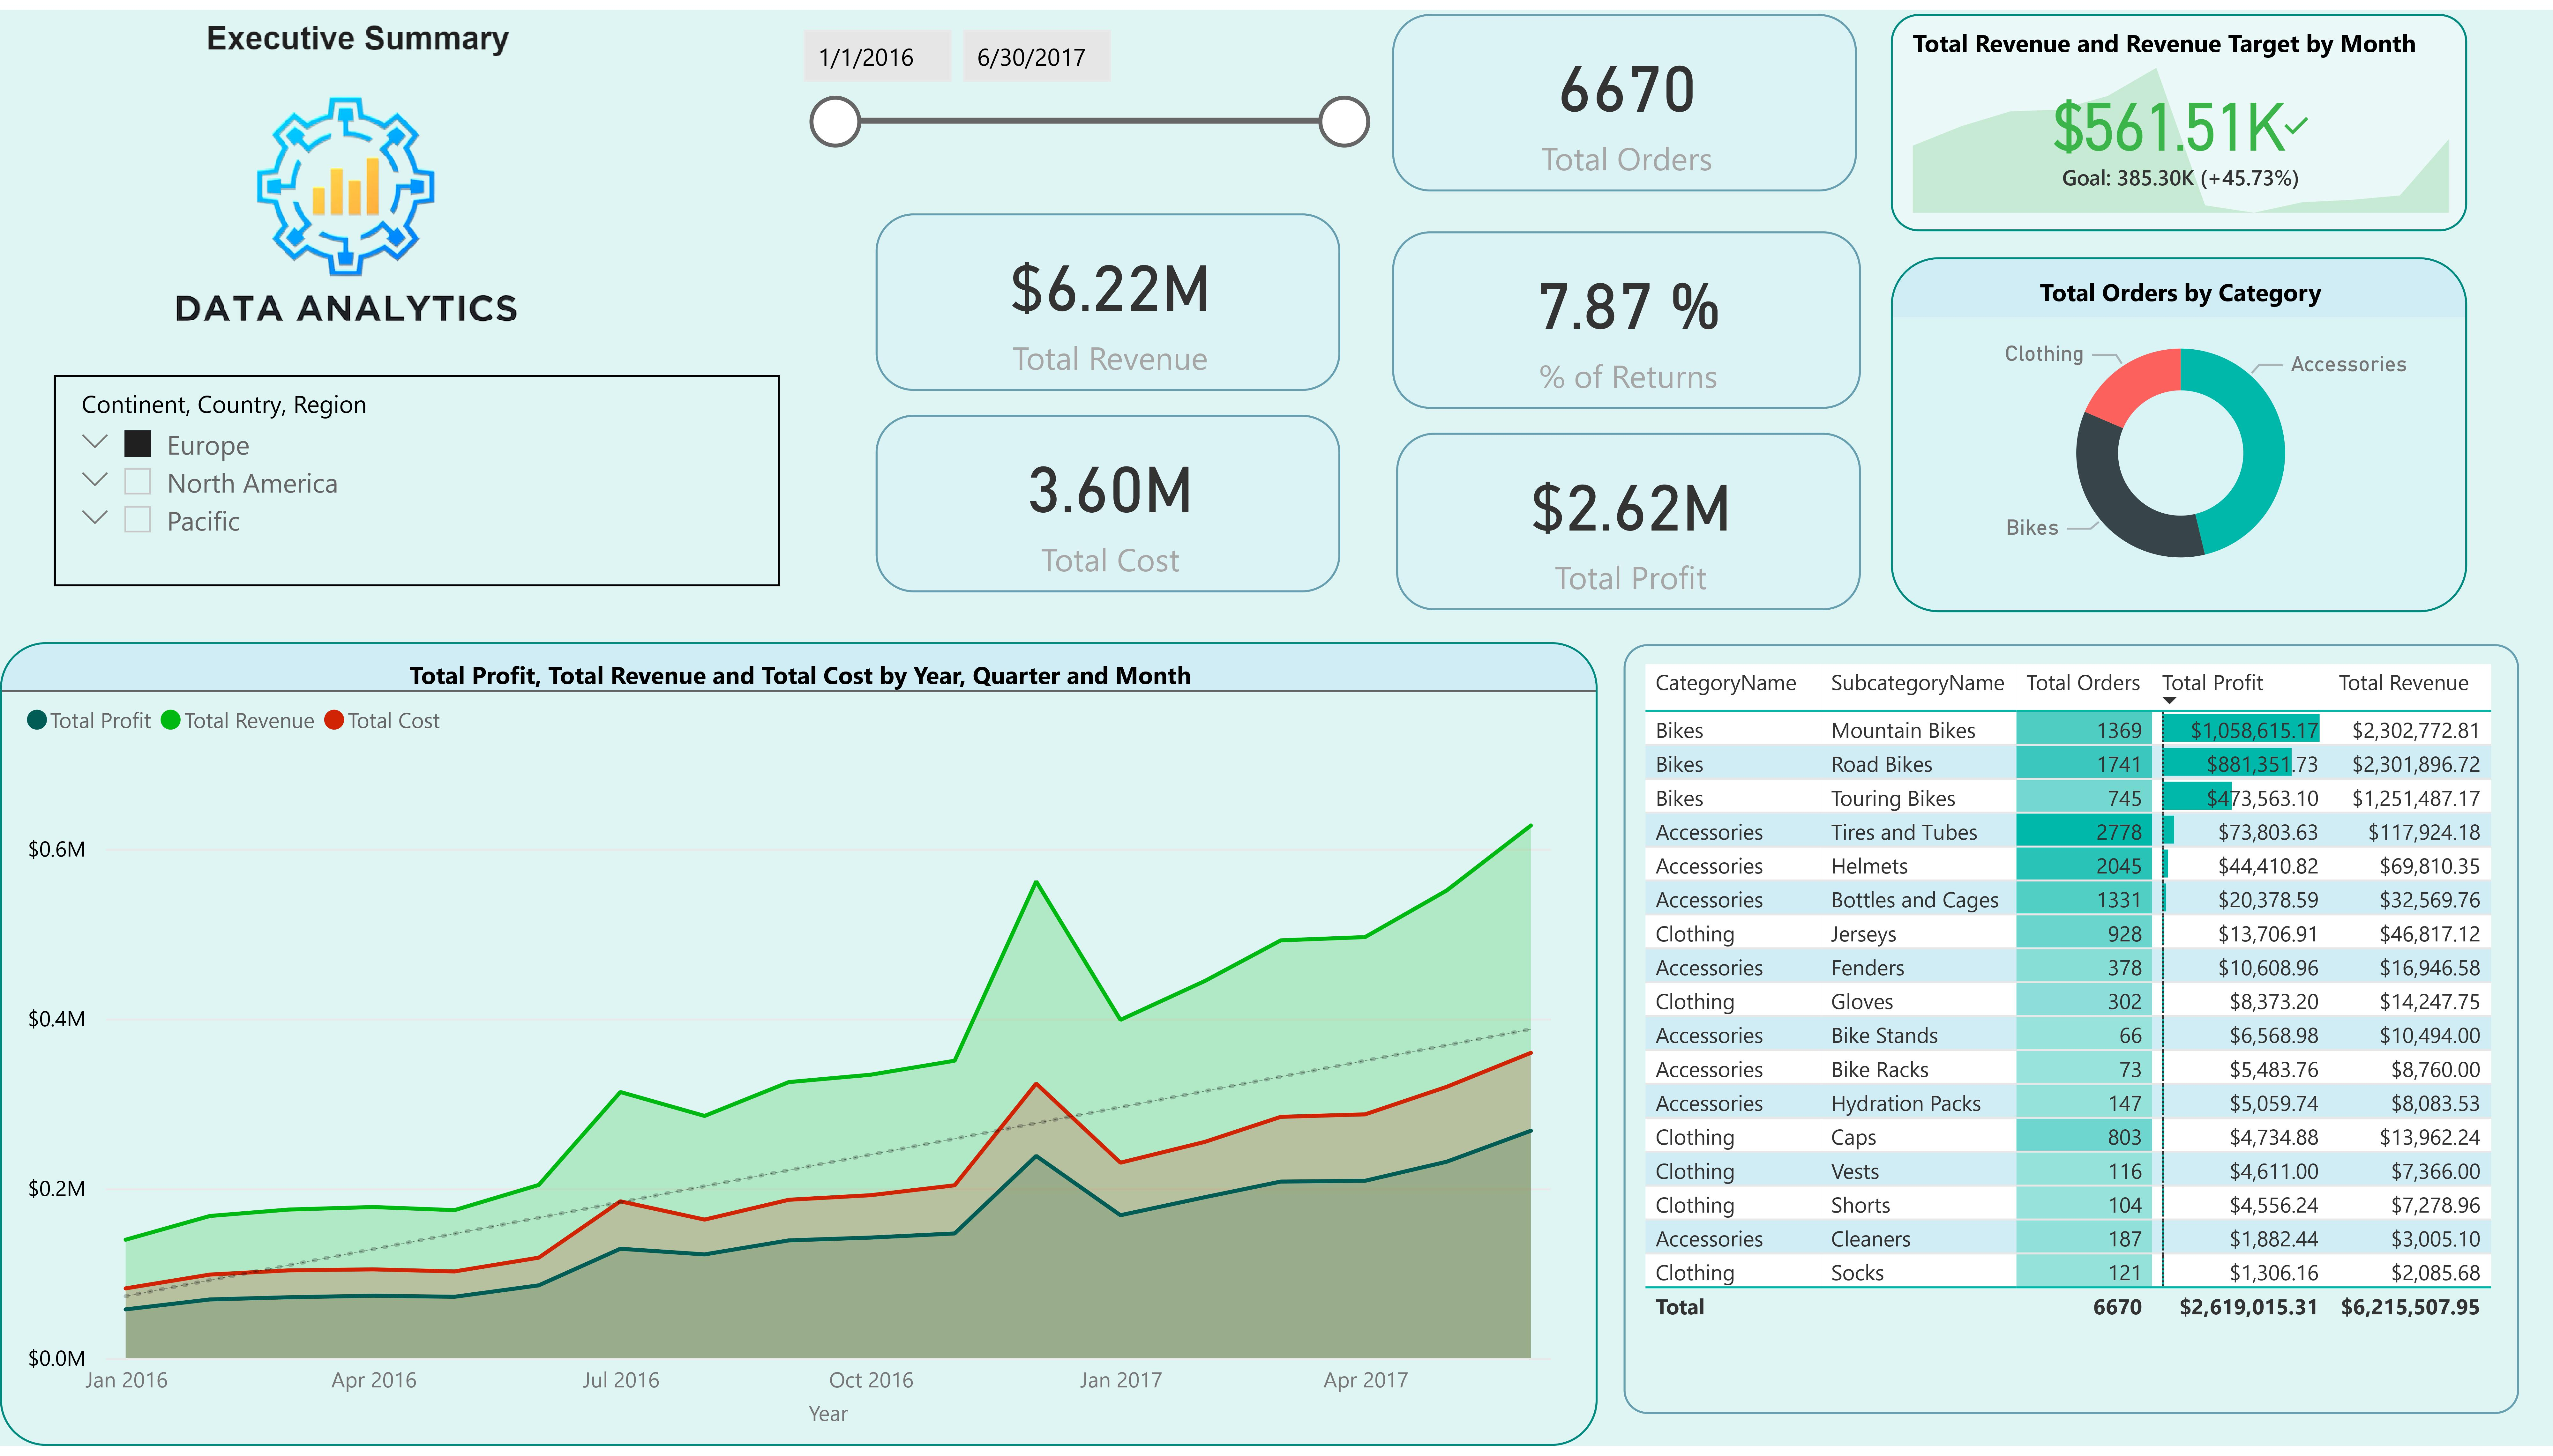

The page's visual inventory and layout, read from the dashboard file:
{"tool":"powerbi","page":{"name":"Exec Summary","canvas":[1280,720],"ordinal":0},"visuals":[{"type":"tableEx","title":"Total Orders, Total Profit and Total Revenue by Subcategory","fields":{"Values":["AW_Product_Category_Lookup.CategoryName","AW_Product_Subcategory_Lookup.SubcategoryName","AW_Sales.Total Orders","AW_Sales.Total Profit","AW_Sales.Total Revenue"]},"box":[814.4,318.4,449.5,386.1],"z":0},{"type":"card","fields":{"Values":["AW_Sales.Total Orders"]},"box":[698.5,1.5,233.3,89.4],"z":1000},{"type":"card","fields":{"Values":["AW_Sales.Total Revenue"]},"box":[439.4,101.5,233.3,89.4],"z":2000},{"type":"card","fields":{"Values":["AW_Sales.Total Cost"]},"box":[439.4,203,233.3,89.4],"z":3000},{"type":"card","fields":{"Values":["AW_Sales.Total Profit"]},"box":[700,212.1,233.3,89.4],"z":4000},{"type":"areaChart","fields":{"Category":["AW_Calendar_Lookup.Start of Month.Variation.Date Hierarchy.Year","AW_Calendar_Lookup.Start of Month.Variation.Date Hierarchy.Quarter","AW_Calendar_Lookup.Start of Month.Variation.Date Hierarchy.Month","AW_Calendar_Lookup.Start of Month.Variation.Date Hierarchy.Day"],"Y":["AW_Sales.Total Profit","AW_Sales.Total Revenue","AW_Sales.Total Cost"]},"box":[0,317.4,800.5,402.6],"z":5000},{"type":"image","box":[74.2,0,198.5,201.5],"z":6000},{"type":"donutChart","title":"Total Orders by Category","fields":{"Y":["AW_Sales.Total Orders"],"Category":["AW_Product_Category_Lookup.CategoryName"]},"box":[947.5,124,288.7,178.3],"z":7000},{"type":"slicer","fields":{"Values":["AW_Calendar_Lookup.Date"]},"box":[390,0,304.7,72.6],"z":8000},{"type":"kpi","fields":{"Indicator":["AW_Sales.Total Revenue"],"Goal":["AW_Sales.Revenue Target"],"TrendLine":["AW_Calendar_Lookup.Date.Variation.Date Hierarchy.Month"]},"box":[947.5,1.7,288.7,108.7],"z":9000},{"type":"card","fields":{"Values":["AW_Returns.% of Returns"]},"box":[698.5,110.6,234.8,89.4],"z":10000},{"type":"slicer","fields":{"Values":["AW_Territories_Lookup.Continent","AW_Territories_Lookup.Country","AW_Territories_Lookup.Region"]},"box":[27.3,183.3,363.6,106.1],"z":11000}]}

Visuals, with their boxes in screenshot pixels (x1, y1, x2, y2), scaled from the page's 1280x720 canvas onto the 2553x1456 screenshot:
"Total Orders, Total Profit and Total Revenue by Subcategory" tableEx: select_region(1624, 644, 2521, 1425)
card - AW_Sales.Total Orders: select_region(1393, 3, 1859, 184)
card - AW_Sales.Total Revenue: select_region(876, 205, 1342, 386)
card - AW_Sales.Total Cost: select_region(876, 411, 1342, 591)
card - AW_Sales.Total Profit: select_region(1396, 429, 1861, 610)
areaChart - AW_Calendar_Lookup.Start of Month.Variation.Date Hierarchy.Year x AW_Calendar_Lookup.Start of Month.Variation.Date Hierarchy.Quarter: select_region(0, 642, 1597, 1456)
image: select_region(148, 0, 544, 407)
"Total Orders by Category" donutChart: select_region(1890, 251, 2466, 611)
slicer - AW_Calendar_Lookup.Date: select_region(778, 0, 1386, 147)
kpi - AW_Sales.Total Revenue x AW_Sales.Revenue Target: select_region(1890, 4, 2466, 223)
card - AW_Returns.% of Returns: select_region(1393, 224, 1861, 405)
slicer - AW_Territories_Lookup.Continent x AW_Territories_Lookup.Country: select_region(55, 371, 780, 585)
